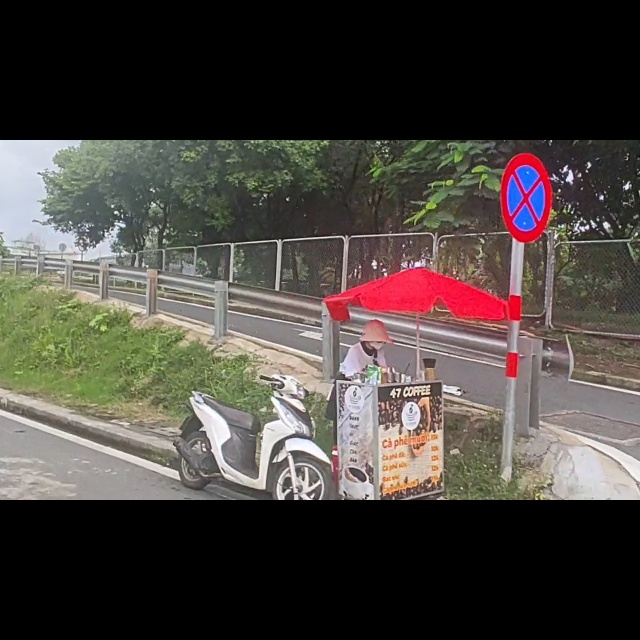bien_cam: (497, 19, 553, 188)
